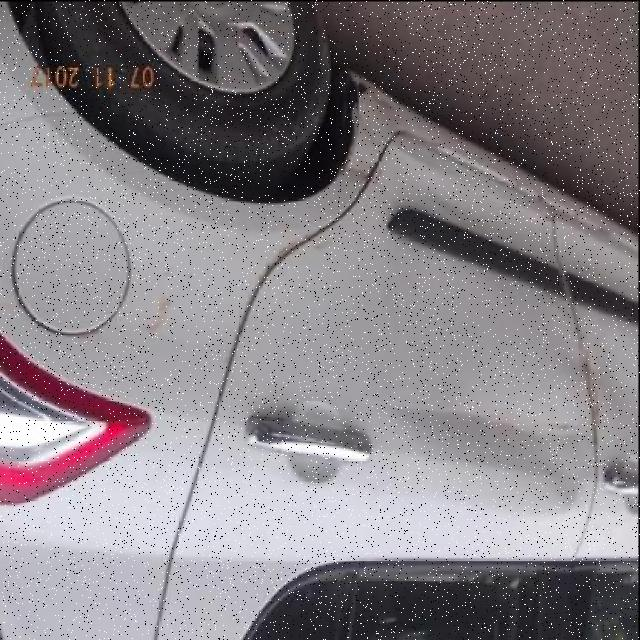damage: (364, 390, 586, 520), (222, 218, 339, 368), (337, 74, 404, 194), (509, 177, 614, 233), (406, 176, 479, 223), (146, 254, 185, 339), (574, 337, 606, 438)
